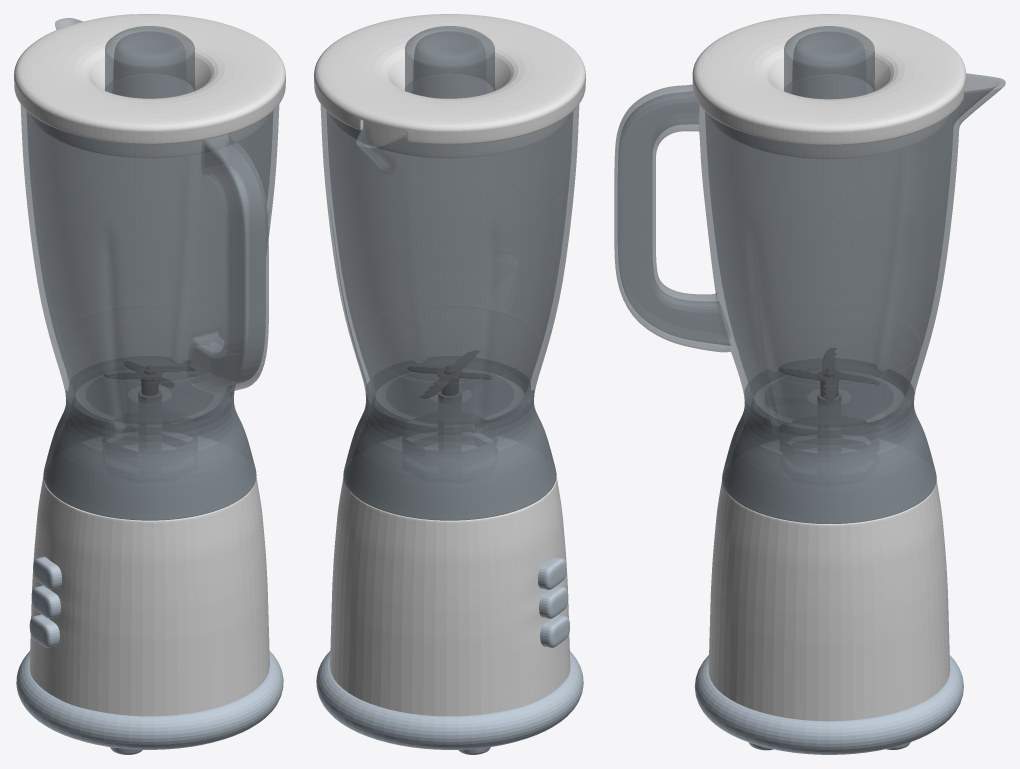
Rendered from kitchenblender.obj.
3 views of the same model, side by side, from view 1: azimuth 30°, elevation 25°; view 2: azimuth 150°, elevation 25°; view 3: azimuth 270°, elevation 25° (orthographic).
Parts seen in each view (by area): view 1: BlenderMain_Cylinder, BlenderBase_Cylinder.001, CoverWhite_Cylinder.002, BlenderFoot_Torus.002, CoverCenter_Cylinder.003, Button0_Cube.000, Button1_Cube.002, Button2_Cube.001, Blade1_Plane.005; view 2: BlenderMain_Cylinder, BlenderBase_Cylinder.001, CoverWhite_Cylinder.002, BlenderFoot_Torus.002, CoverCenter_Cylinder.003, Button0_Cube.000, Button1_Cube.002, Button2_Cube.001, Blade2_Plane.001, Blade1_Plane.005; view 3: BlenderMain_Cylinder, BlenderBase_Cylinder.001, CoverWhite_Cylinder.002, BlenderFoot_Torus.002, CoverCenter_Cylinder.003, Blade1_Plane.005.
Boxes of the visible parts, x1,y1,x2,y2 form: BlenderMain_Cylinder: (20,18,279,520); BlenderBase_Cylinder.001: (29,475,269,716); CoverWhite_Cylinder.002: (14,14,285,157); BlenderFoot_Torus.002: (16,646,283,754); CoverCenter_Cylinder.003: (105,26,194,98); Button0_Cube.000: (29,614,59,647); Button1_Cube.002: (31,585,60,618); Button2_Cube.001: (33,556,61,589); Blade1_Plane.005: (104,366,195,378); BlenderMain_Cylinder: (320,77,579,520); BlenderBase_Cylinder.001: (330,475,570,716); CoverWhite_Cylinder.002: (314,14,585,157); BlenderFoot_Torus.002: (316,646,583,754); CoverCenter_Cylinder.003: (405,26,494,98); Button0_Cube.000: (540,614,569,647); Button1_Cube.002: (539,585,568,618); Button2_Cube.001: (538,556,566,589); Blade2_Plane.001: (420,350,480,398); Blade1_Plane.005: (407,366,491,379); BlenderMain_Cylinder: (614,73,1005,523); BlenderBase_Cylinder.001: (708,479,950,721); CoverWhite_Cylinder.002: (692,14,966,158); BlenderFoot_Torus.002: (694,655,963,754); CoverCenter_Cylinder.003: (784,26,874,99); Blade1_Plane.005: (817,348,842,402).
Bounding box in the file's own units: 15.61 × 42.73 × 22.34.
